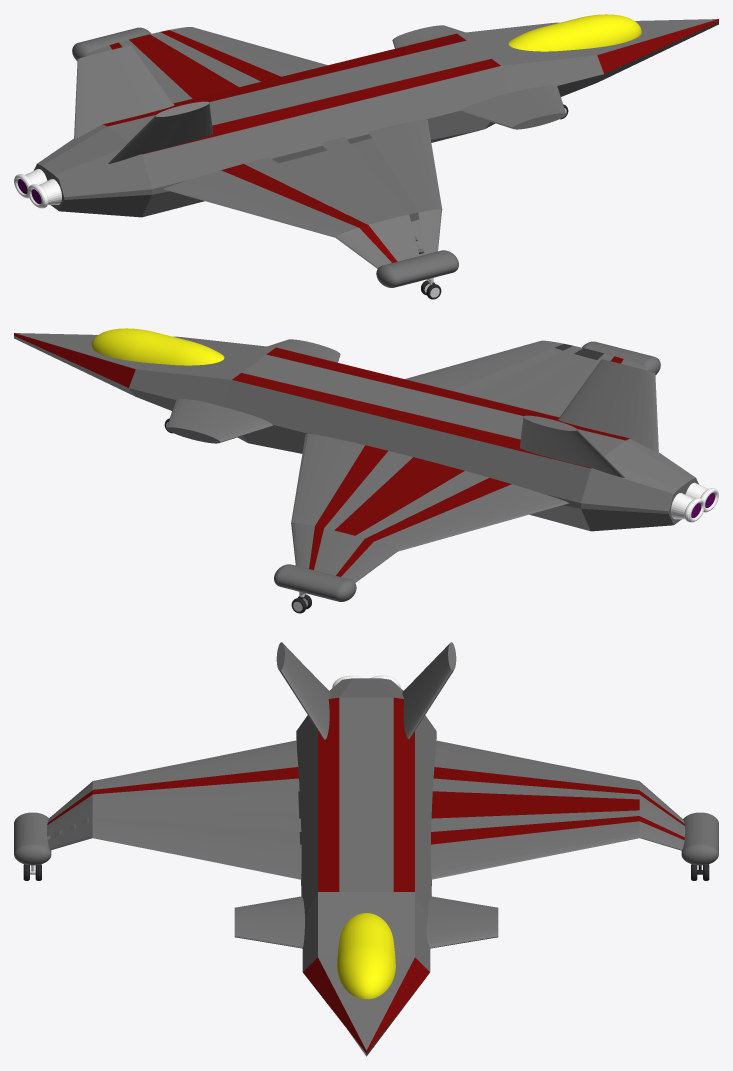
3 views of the same model, one above another, from view 1: azimuth 30°, elevation 25°; view 2: azimuth 150°, elevation 25°; view 3: azimuth 270°, elevation 25° (orthographic). The views are drawn at different scales.
Visible parts, largest first — view 1: Cylinder.001; view 2: Cylinder.001; view 3: Cylinder.001.
Part boxes in pixels (x1,y1,x2,y2): Cylinder.001: [14, 14, 718, 287]; Cylinder.001: [14, 328, 718, 601]; Cylinder.001: [14, 642, 718, 1056].
Bounding box in the file's own units: 2884 × 559 × 2324.
